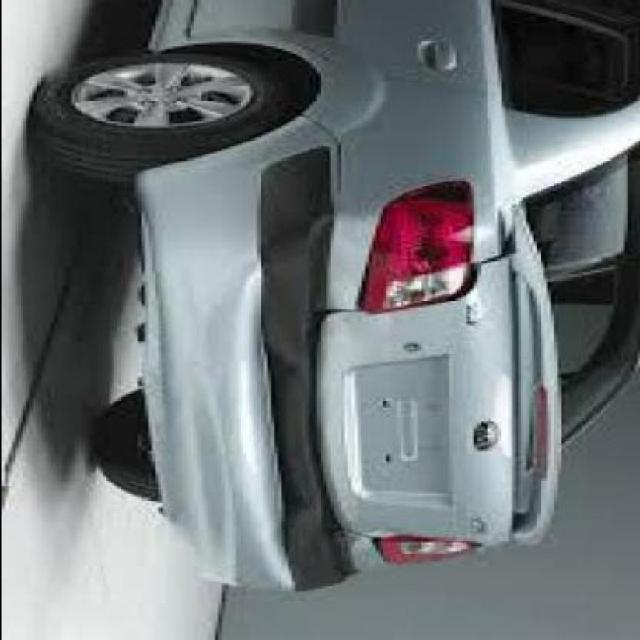damage: (219, 205, 352, 532)
